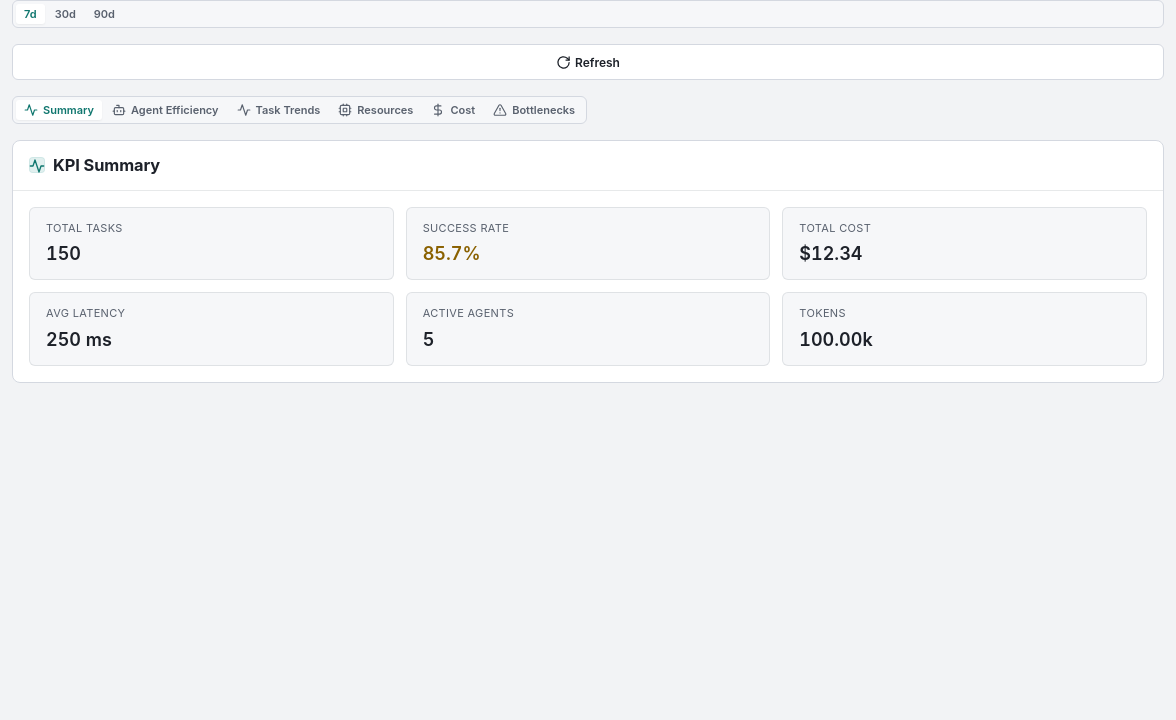
Test case: Analysis.vue › renders trends chart when task-trends endpoint returns series
The width and height of the screenshot is (1176, 720).
Click the radio button with class "segmented__item" showing "Task Trends" at point(278, 110), box 228,100 -> 328,120
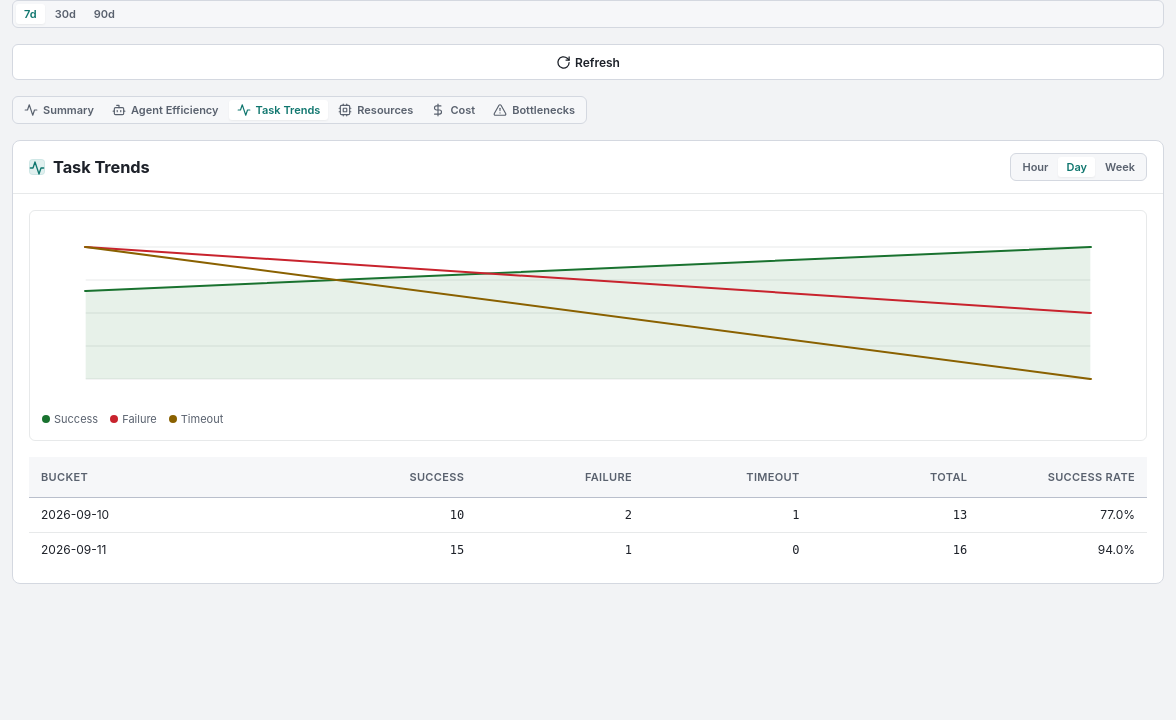
Check: the picture with class "an-chart__svg" is shown, box 42,223 -> 1134,403
Check: the text "2026-09-10" is shown, box 41,507 -> 109,522
Check: the text "77.0%" is shown, box 1100,507 -> 1135,522
